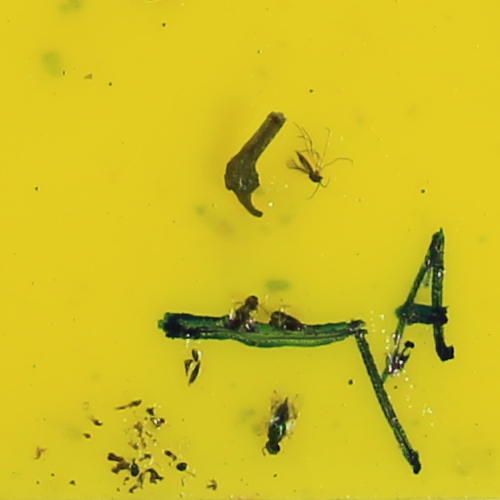wasp: (262, 395, 297, 455)
